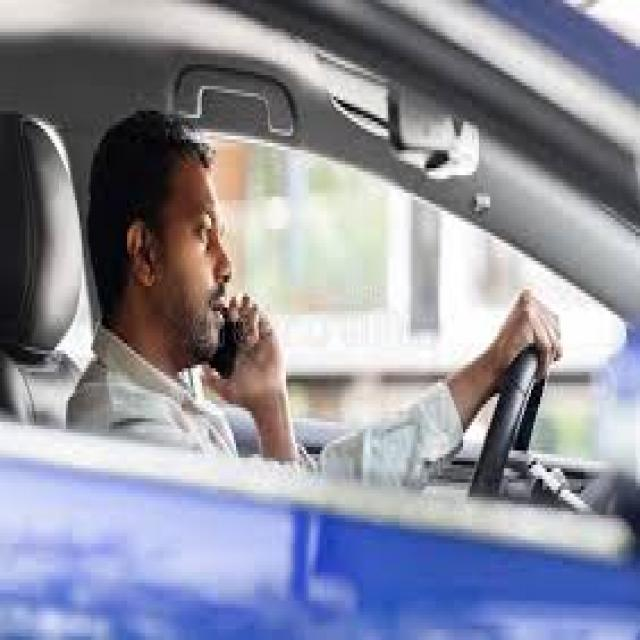Cellphone_calling: (170, 250, 291, 400)
